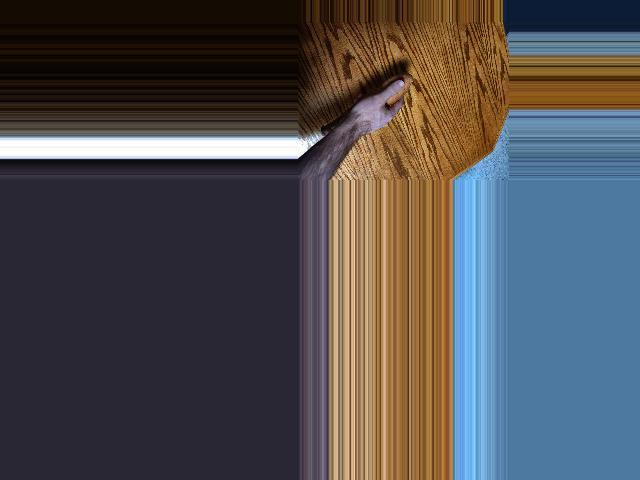sweet_potato: (317, 74, 414, 139)
